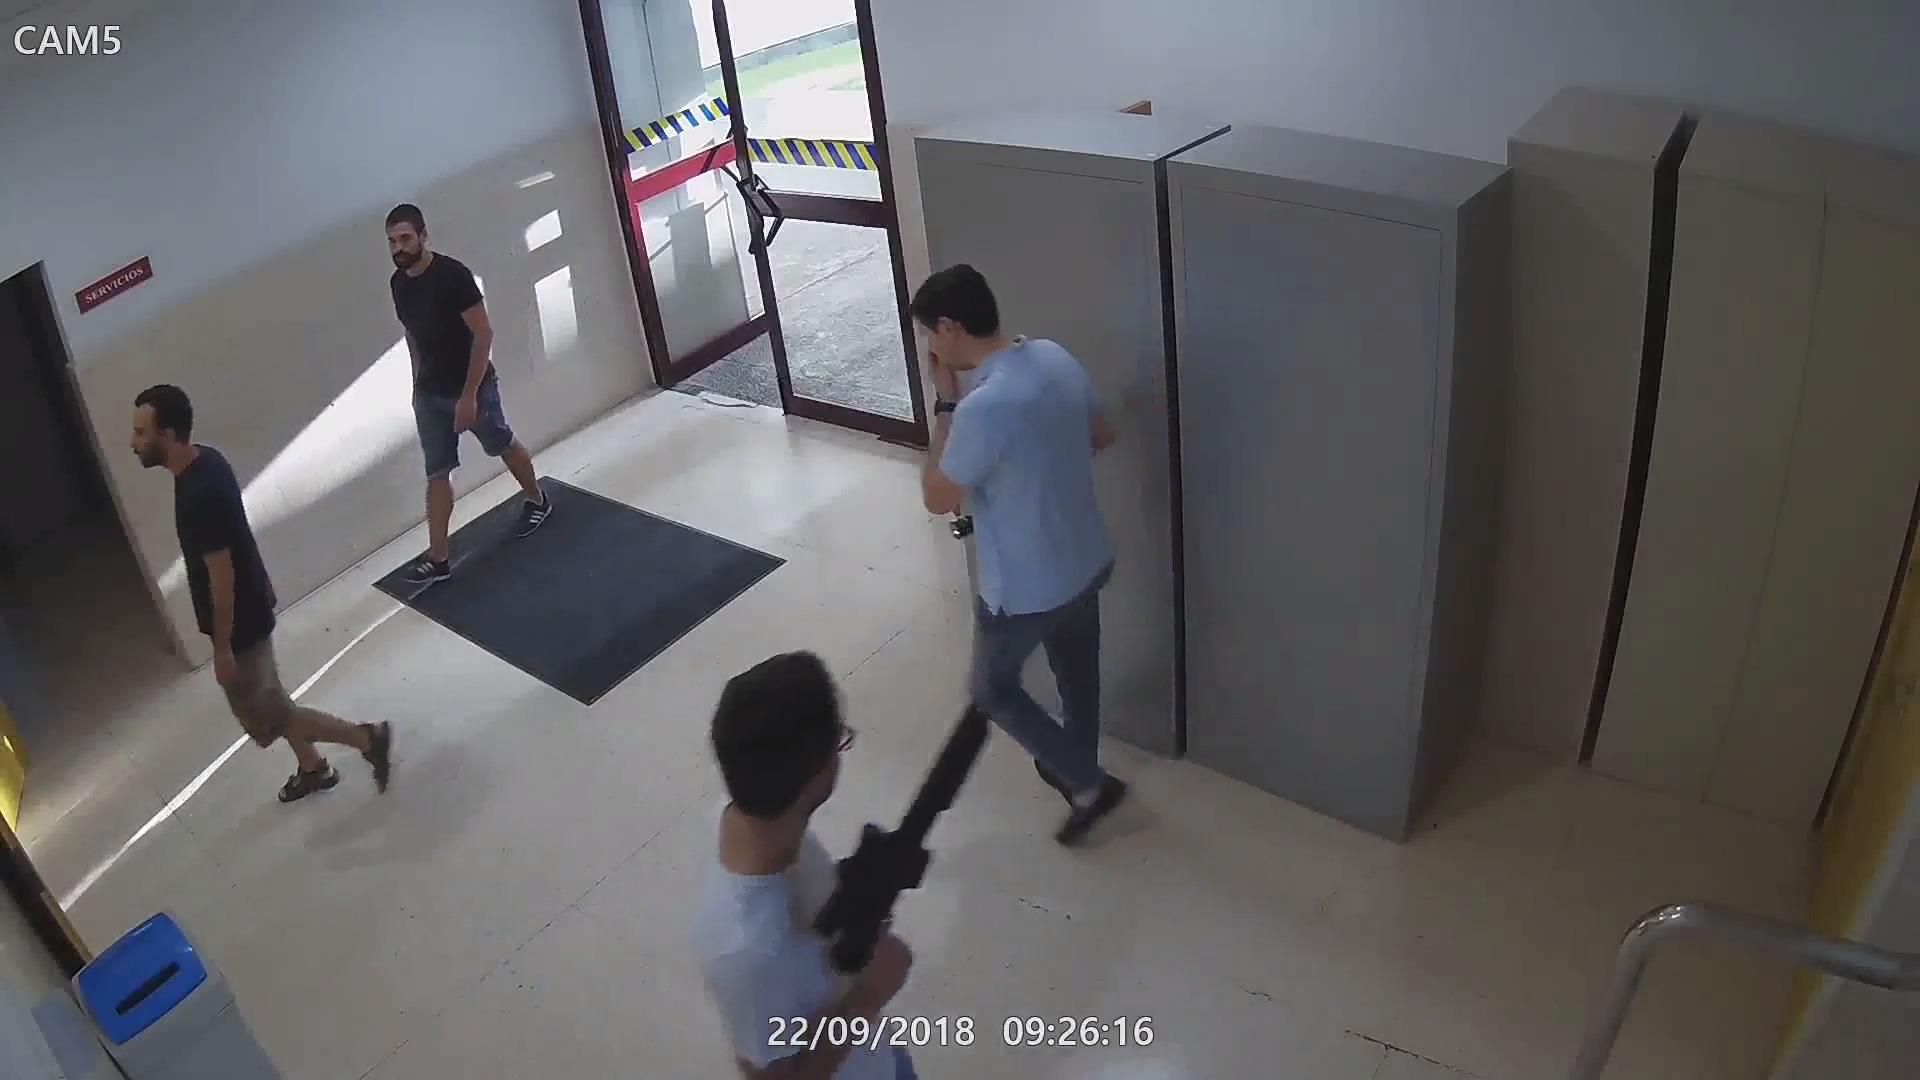Short_rifle: (844, 692, 1027, 1009)
